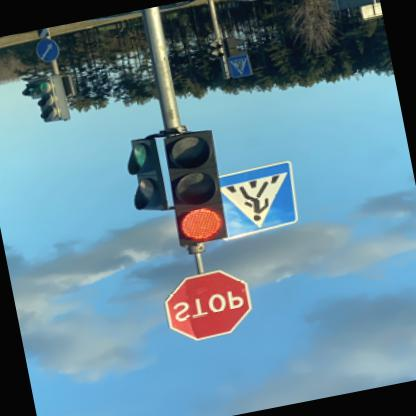crosswalk: (209, 160, 300, 242), (224, 53, 253, 81)
stop: (158, 266, 256, 347)
trafficlight: (156, 127, 231, 250), (118, 138, 168, 218), (20, 78, 60, 130)
